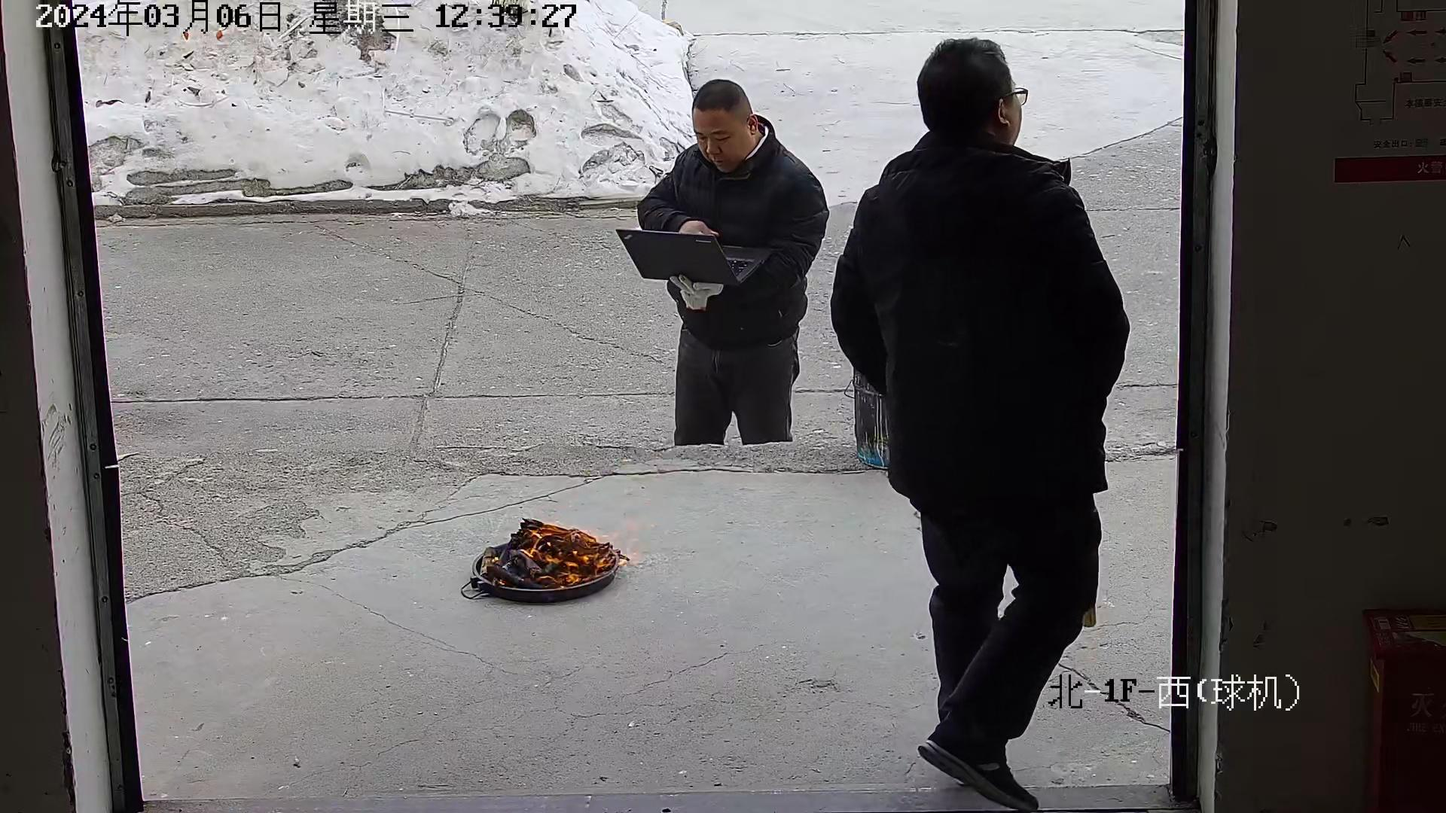fire: (510, 519, 629, 589)
